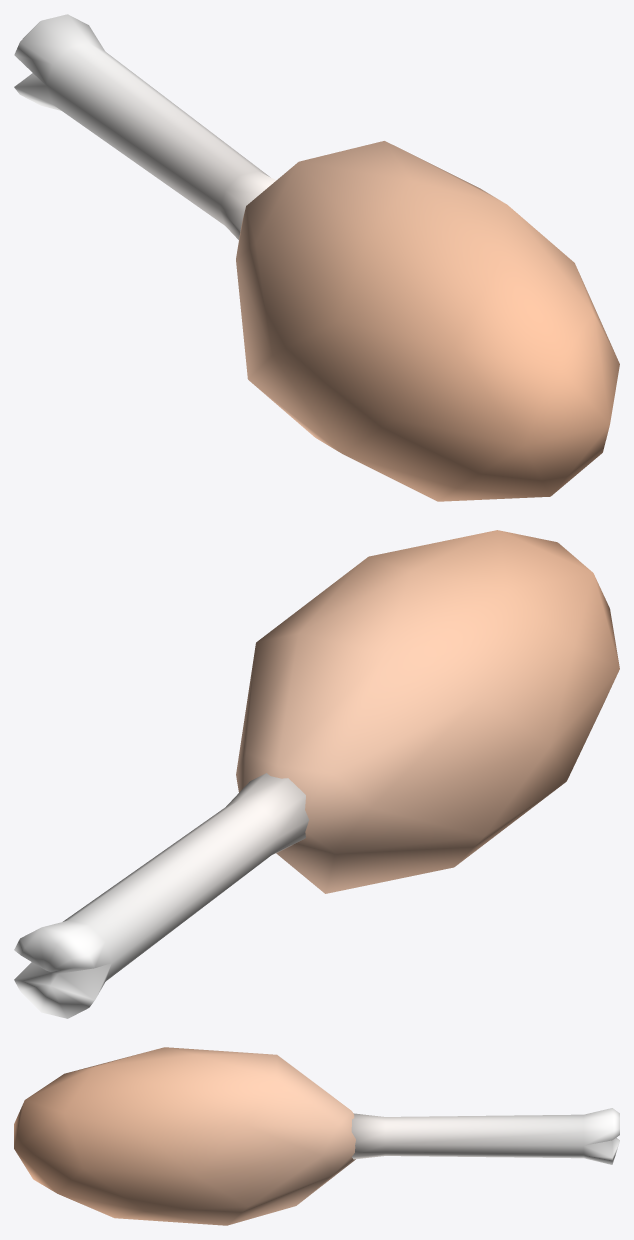
File: PahaAyam.fbx
3 views of the same model, one above another, from view 1: azimuth 30°, elevation 25°; view 2: azimuth 150°, elevation 25°; view 3: azimuth 270°, elevation 25° (orthographic). The views are drawn at different scales.
Visible parts, largest first — view 1: AyamPaha_LOD0; view 2: AyamPaha_LOD0; view 3: AyamPaha_LOD0.
Boxes of the visible parts, x1,y1,x2,y2 form: AyamPaha_LOD0: [14, 14, 619, 501]; AyamPaha_LOD0: [14, 530, 619, 1018]; AyamPaha_LOD0: [14, 1047, 619, 1225].
Size of what is drawn, in the model's own units: 41.57 by 40.01 by 134.
